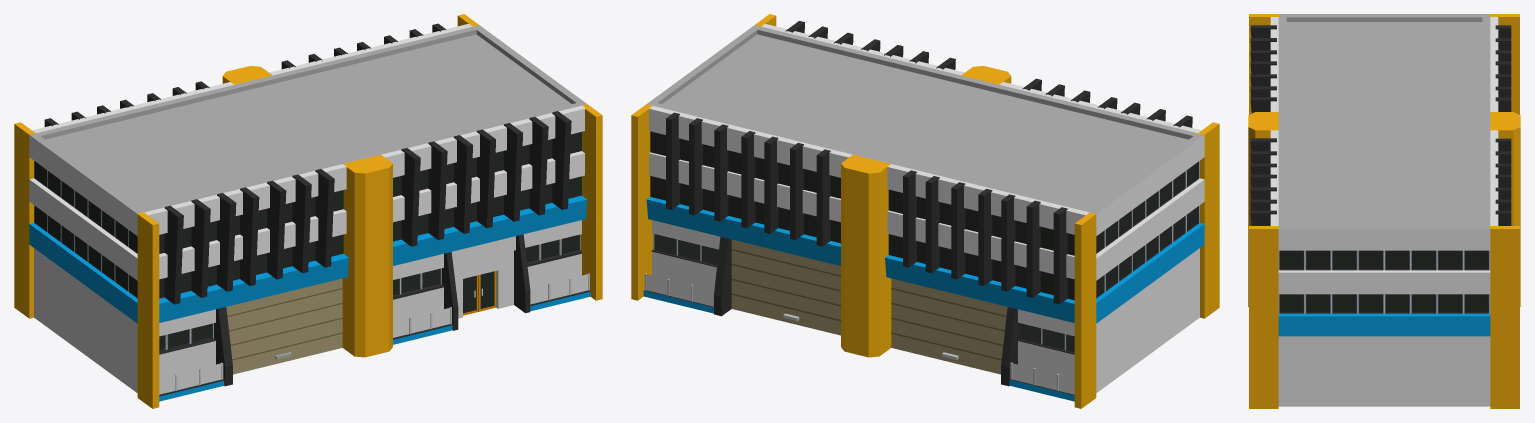
The picture shows the model from 3 angles, left to right: view 1: azimuth 30°, elevation 25°; view 2: azimuth 150°, elevation 25°; view 3: azimuth 270°, elevation 25°; orthographic projection. The views are drawn at different scales.
Parts seen in each view (by area): view 1: BB-08; view 2: BB-08; view 3: BB-08.
Boxes of the visible parts, bbox=[...] form: BB-08: bbox=[14, 14, 602, 408]; BB-08: bbox=[631, 14, 1219, 408]; BB-08: bbox=[1248, 14, 1520, 408].
Size of what is drawn, in the model's own units: 31.74 by 12.47 by 17.
